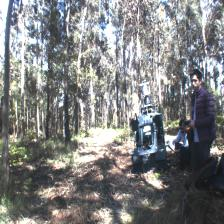trunktrack_idkeyframe: (2, 52, 10, 178)
